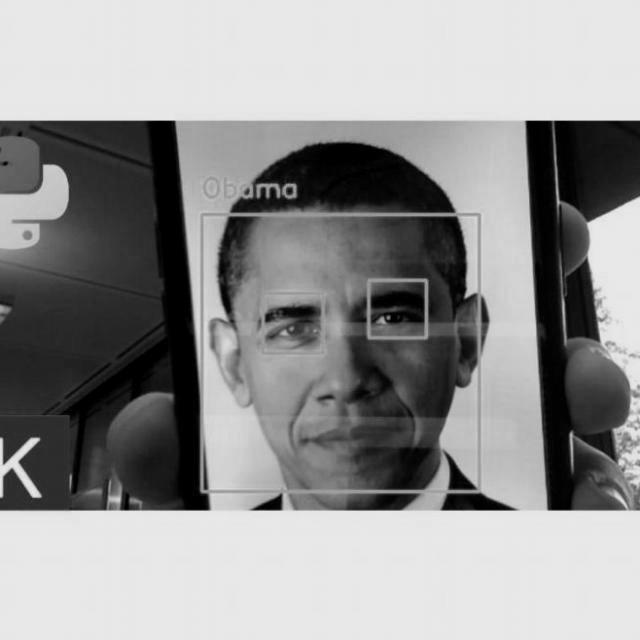fake: (146, 122, 572, 508)
